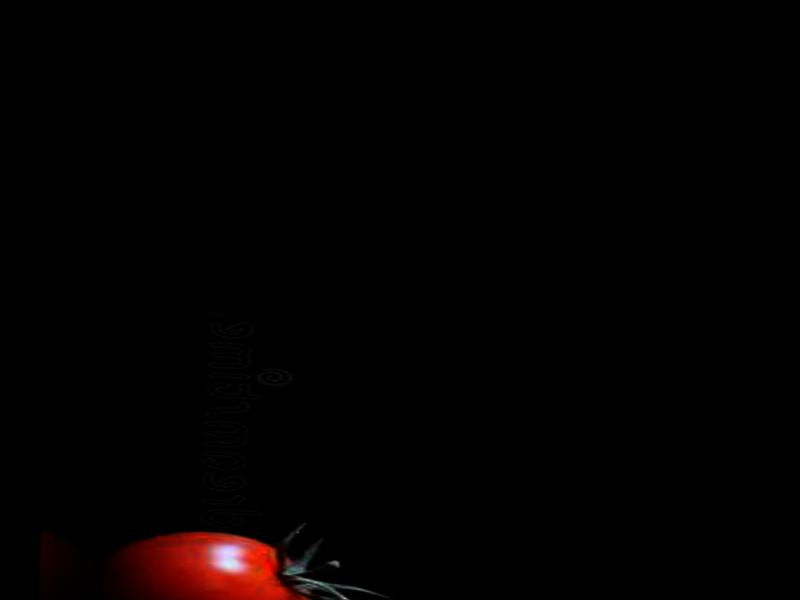Tomato: (99, 526, 318, 600)
